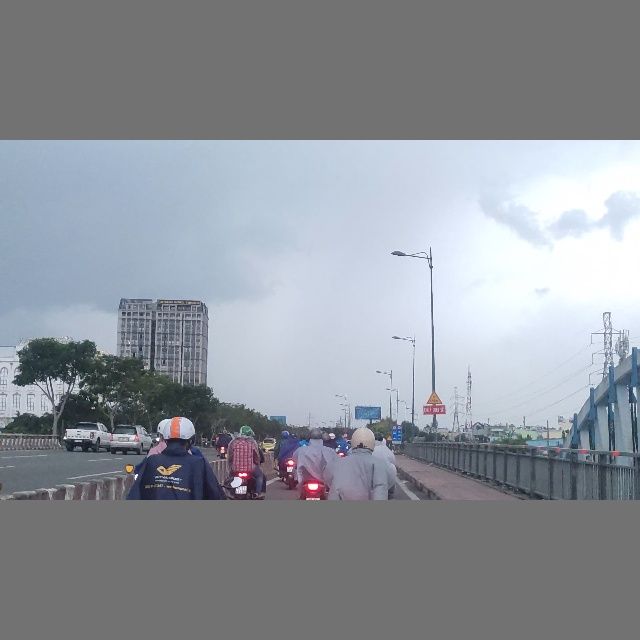W.201a: (387, 434, 393, 441)
W.245a: (425, 391, 443, 405)
